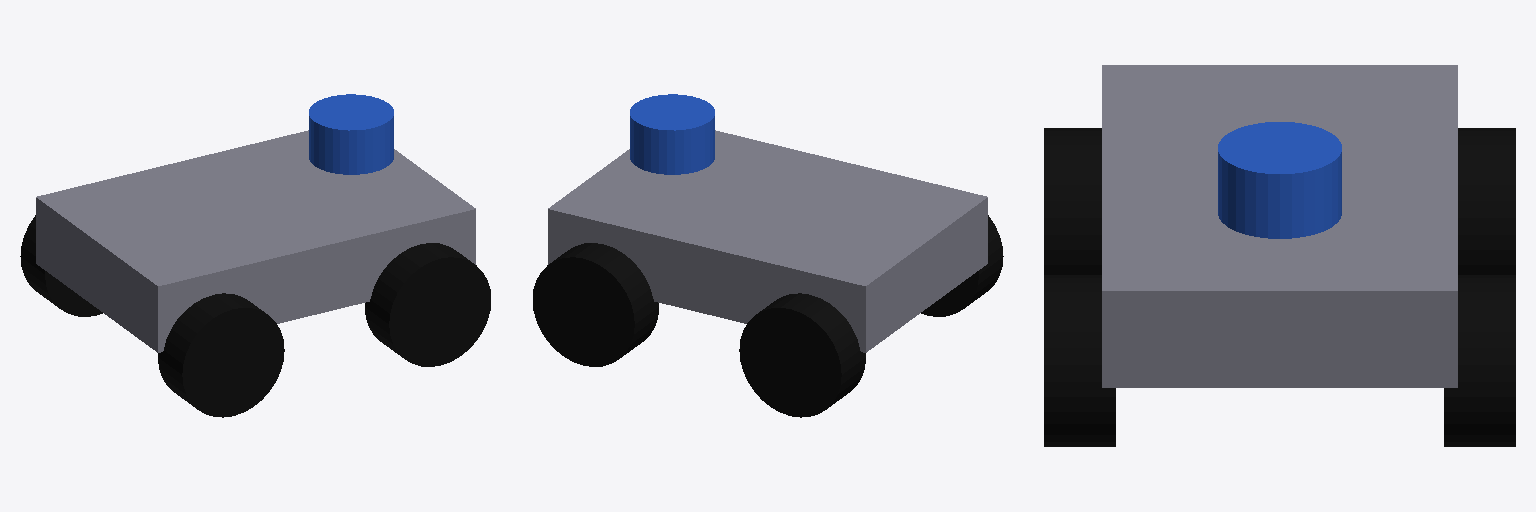
robot.urdf — jetrover:
<?xml version="1.0"?>
<!--
  JetRover (mecanum) kinematic tree. Frame layout follows REP-105/120:
    odom -> base_footprint -> base_link -> {imu_link, lidar_link, arm_base_link, wheels}

  Numbers come from Hiwonder's official jetrover_description (car_mecanum, imu, lidar, connect).
  Shapes are rough placeholders for RViz only; they are NOT a measured footprint or collision model.

  imu_link: base_node already rotates the STM32 IMU axes into base_link's (x fwd, y left, z up),
  so this joint has NO rotation (Hiwonder's own imu_joint rpy = (pi, 0, -pi/2) describes the raw
  sensor axes X=right, Y=back, Z=down, which matches what was measured).
  lidar_link: pose from Hiwonder; the yaw of the scan frame depends on the LiDAR model/driver and
  must be checked against a real scan.
  The depth camera is mounted on the arm (link4), so it is not part of this base description.
-->
<robot name="jetrover">
  <material name="grey"><color rgba="0.55 0.55 0.6 1"/></material>
  <material name="black"><color rgba="0.1 0.1 0.1 1"/></material>
  <material name="blue"><color rgba="0.2 0.4 0.8 1"/></material>
  <material name="red"><color rgba="0.8 0.2 0.2 1"/></material>

  <link name="base_footprint"/>

  <!-- wheel radius 0.04825 + 0.06784 from the wheel axis up to base_link -->
  <joint name="base_joint" type="fixed">
    <parent link="base_footprint"/>
    <child link="base_link"/>
    <origin xyz="0 0 0.11609" rpy="0 0 0"/>
  </joint>

  <link name="base_link">
    <visual>
      <origin xyz="0 0 -0.03" rpy="0 0 0"/>
      <geometry><box size="0.30 0.20 0.06"/></geometry>
      <material name="grey"/>
    </visual>
  </link>

  <!-- wheels: front/back +-0.0975, left/right +-0.1121, axis 0.06784 below base_link -->
  <link name="wheel_left_front_link">
    <visual><origin rpy="1.5708 0 0"/><geometry><cylinder radius="0.04825" length="0.04"/></geometry><material name="black"/></visual>
  </link>
  <joint name="wheel_left_front_joint" type="fixed">
    <parent link="base_link"/><child link="wheel_left_front_link"/>
    <origin xyz="0.0975131 0.1121295 -0.0678411" rpy="0 0 0"/>
  </joint>

  <link name="wheel_left_back_link">
    <visual><origin rpy="1.5708 0 0"/><geometry><cylinder radius="0.04825" length="0.04"/></geometry><material name="black"/></visual>
  </link>
  <joint name="wheel_left_back_joint" type="fixed">
    <parent link="base_link"/><child link="wheel_left_back_link"/>
    <origin xyz="-0.0975131 0.1121295 -0.0678411" rpy="0 0 0"/>
  </joint>

  <link name="wheel_right_front_link">
    <visual><origin rpy="1.5708 0 0"/><geometry><cylinder radius="0.04825" length="0.04"/></geometry><material name="black"/></visual>
  </link>
  <joint name="wheel_right_front_joint" type="fixed">
    <parent link="base_link"/><child link="wheel_right_front_link"/>
    <origin xyz="0.0975131 -0.1121295 -0.0678411" rpy="0 0 0"/>
  </joint>

  <link name="wheel_right_back_link">
    <visual><origin rpy="1.5708 0 0"/><geometry><cylinder radius="0.04825" length="0.04"/></geometry><material name="black"/></visual>
  </link>
  <joint name="wheel_right_back_joint" type="fixed">
    <parent link="base_link"/><child link="wheel_right_back_link"/>
    <origin xyz="-0.0975131 -0.1121295 -0.0678411" rpy="0 0 0"/>
  </joint>

  <link name="imu_link">
    <visual><geometry><box size="0.02 0.02 0.005"/></geometry><material name="red"/></visual>
  </link>
  <joint name="imu_joint" type="fixed">
    <parent link="base_link"/><child link="imu_link"/>
    <origin xyz="0.0048416 0.011168 -0.0057398" rpy="0 0 0"/>
  </joint>

  <link name="lidar_link">
    <visual><geometry><cylinder radius="0.035" length="0.04"/></geometry><material name="blue"/></visual>
  </link>
  <joint name="lidar_joint" type="fixed">
    <parent link="base_link"/><child link="lidar_link"/>
    <origin xyz="0.0900035 0 0.0405196" rpy="0 0 0"/>
  </joint>

  <!-- Scan frame of the RPLIDAR A1 driver (frame_id of /scan). Hiwonder rotates it by pi relative
       to lidar_link for the A1; to be confirmed with a real scan (obstacle in front of the robot). -->
  <link name="lidar_frame"/>
  <joint name="lidar_frame_joint" type="fixed">
    <parent link="lidar_link"/><child link="lidar_frame"/>
    <origin xyz="0 0 0" rpy="0 0 3.14159265"/>
  </joint>

  <!-- Base of the arm (Hiwonder joint1 origin). Arm links/joints are added with the arm work. -->
  <link name="arm_base_link"/>
  <joint name="arm_base_joint" type="fixed">
    <parent link="base_link"/><child link="arm_base_link"/>
    <origin xyz="0.0251328 0 0.0774027" rpy="0 0 0"/>
  </joint>
</robot>

--- Render facts (derived) ---
3 views of the same robot in one strip: view 1: azimuth 30°, elevation 25°; view 2: azimuth 150°, elevation 25°; view 3: azimuth 270°, elevation 25° (orthographic).
Model jetrover with 10 links and 9 joints (9 fixed), rooted at base_footprint, posed every joint at zero.
Visible links, largest first — view 1: base_link, wheel_right_front_link, wheel_right_back_link, lidar_link, wheel_left_back_link; view 2: base_link, wheel_left_front_link, wheel_left_back_link, lidar_link, wheel_right_back_link; view 3: base_link, lidar_link, wheel_left_front_link, wheel_right_front_link, wheel_left_back_link, wheel_right_back_link.
Boxes of the visible links, box(x1,y1,x2,y2) form: base_link: box(36, 130, 475, 352); wheel_right_front_link: box(365, 243, 490, 366); wheel_right_back_link: box(158, 293, 284, 417); lidar_link: box(309, 94, 393, 174); wheel_left_back_link: box(20, 215, 102, 316); base_link: box(548, 130, 987, 352); wheel_left_front_link: box(533, 243, 658, 366); wheel_left_back_link: box(739, 293, 865, 417); lidar_link: box(630, 94, 714, 174); wheel_right_back_link: box(921, 215, 1003, 316); base_link: box(1102, 65, 1457, 387); lidar_link: box(1218, 122, 1341, 238); wheel_left_front_link: box(1444, 275, 1515, 446); wheel_right_front_link: box(1044, 275, 1115, 446); wheel_left_back_link: box(1458, 128, 1515, 274); wheel_right_back_link: box(1044, 128, 1101, 274).
Bounding box of the posed robot: 0.3 × 0.2643 × 0.1766 m (x, y, z).
Geometry: primitives only (box / cylinder / sphere), no mesh files.
